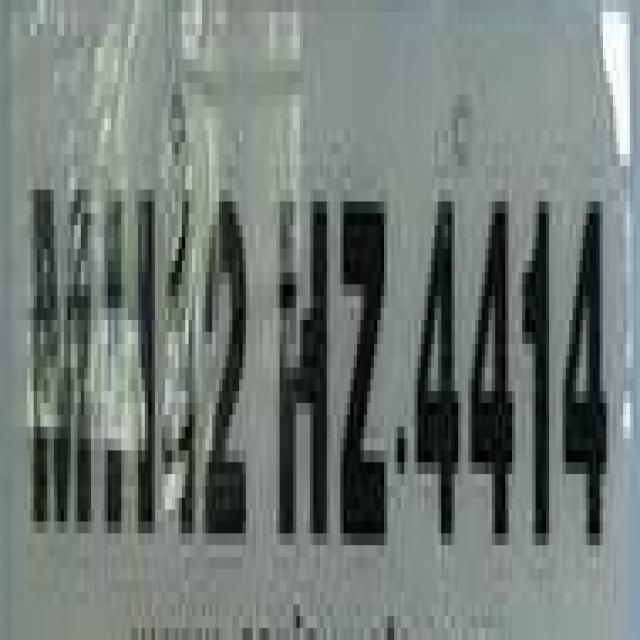license_plate: (3, 35, 639, 640)
